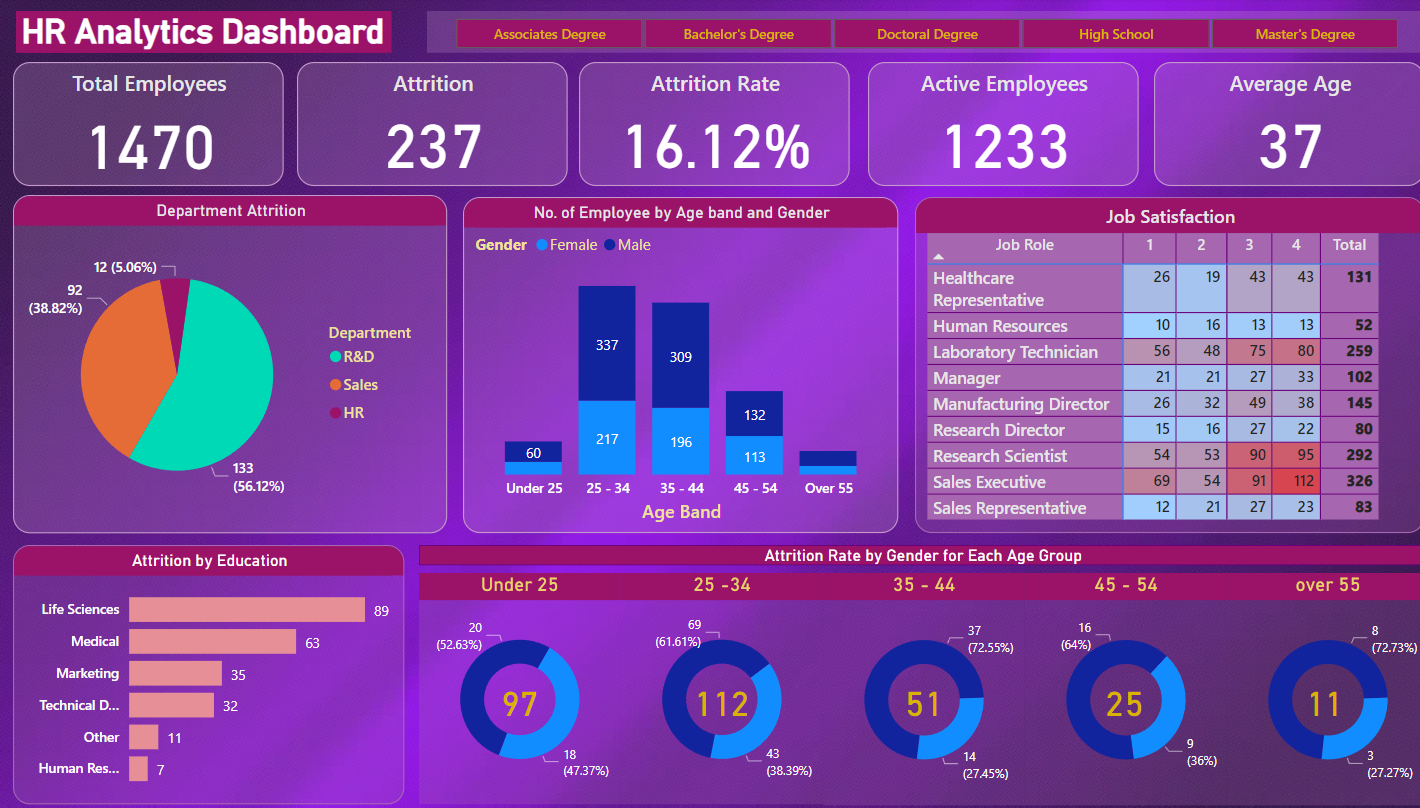

Layout of this report page (visuals, bound fields, positions):
{"tool":"powerbi","page":{"name":"Page 1","canvas":[1280,720],"ordinal":0},"visuals":[{"type":"card","title":"Total Employees","fields":{"Values":["Sum(HR data.Employee Count)"]},"box":[13.6,56.4,240,110],"z":0},{"type":"card","title":"Attrition","fields":{"Values":["Sum(HR data.Attrition Count)"]},"box":[265.3,56.4,240.1,109.8],"z":1000},{"type":"card","title":"Attrition Rate","fields":{"Values":["HR data.Attrition Rate"]},"box":[515.1,56.4,240.1,109.8],"z":2000},{"type":"card","title":"Active Employees","fields":{"Values":["HR data.Active Employees"]},"box":[771.7,56.4,240.1,109.8],"z":3000},{"type":"card","title":"Average Age","fields":{"Values":["Avg(HR data.Age)"]},"box":[1025.4,56.4,240.1,109.8],"z":4000},{"type":"pieChart","title":"Department Attrition","fields":{"Category":["HR data.Department"],"Y":["Sum(HR data.Attrition Count)"]},"box":[13.6,174.9,384.9,300.3],"z":5000},{"type":"columnChart","title":"No. of Employee by Age band and Gender","fields":{"Category":["HR data.CF_age band"],"Y":["Sum(HR data.Employee Count)"],"Series":["HR data.Gender"]},"box":[412.1,176.9,385.8,298.4],"z":6000},{"type":"pivotTable","title":"Job Satisfaction","fields":{"Rows":["HR data.Job Role"],"Columns":["HR data.Job Satisfaction"],"Values":["Sum(HR data.Employee Count)"]},"box":[813.5,176.9,451.9,298.4],"z":7000},{"type":"barChart","title":"Attrition by Education","fields":{"Y":["Sum(HR data.Attrition Count)"],"Category":["HR data.Education Field"]},"box":[13.6,485,347,230.3],"z":8000},{"type":"donutChart","title":"Under 25","fields":{"Category":["HR data.Gender"],"Y":["Sum(HR data.Attrition Count)"],"Series":["HR data.CF_age band"]},"box":[373.2,510.3,178.8,205.1],"z":9000},{"type":"textbox","title":"Attrition Rate by Gender for Each Age Group","box":[373.2,485,892.2,18.5],"z":10000},{"type":"donutChart","title":"25 -34","fields":{"Category":["HR data.Gender"],"Y":["Sum(HR data.Attrition Count)"],"Series":["HR data.CF_age band"]},"box":[552,510.3,178.8,205.1],"z":11000},{"type":"donutChart","title":"35 - 44","fields":{"Category":["HR data.Gender"],"Y":["Sum(HR data.Attrition Count)"],"Series":["HR data.CF_age band"]},"box":[731.5,509.9,179.1,204.8],"z":12000},{"type":"donutChart","title":"45 - 54","fields":{"Category":["HR data.Gender"],"Y":["Sum(HR data.Attrition Count)"],"Series":["HR data.CF_age band"]},"box":[910.6,509.9,179.1,204.8],"z":13000},{"type":"donutChart","title":"over 55","fields":{"Category":["HR data.Gender"],"Y":["Sum(HR data.Attrition Count)"],"Series":["HR data.CF_age band"]},"box":[1089.8,509.9,179.1,204.8],"z":14000},{"type":"card","fields":{"Values":["Sum(HR data.Attrition Count)"]},"box":[607.4,589,68,70],"z":15000},{"type":"card","fields":{"Values":["HR data.Attrition+"]},"box":[428.6,589,68,70],"z":16000},{"type":"card","fields":{"Values":["Sum(HR data.Attrition Count)"]},"box":[786.3,589,68,70],"z":17000},{"type":"card","fields":{"Values":["Sum(HR data.Attrition Count)"]},"box":[965.1,589,68,70],"z":18000},{"type":"card","fields":{"Values":["Sum(HR data.Attrition Count)"]},"box":[1142,589,68,70],"z":19000},{"type":"textbox","title":"HR Analytics Dashboard","box":[15.6,11.7,333.4,36.9],"z":20000},{"type":"slicer","fields":{"Values":["HR data.Education"]},"box":[380,11.7,885.4,36.9],"z":21000}]}

Visuals, with their boxes in screenshot pixels (x1, y1, x2, y2), scaled from the page's 1280x720 canvas onto the 1420x808 screenshot:
"Total Employees" card: box=[15, 63, 281, 187]
"Attrition" card: box=[294, 63, 561, 187]
"Attrition Rate" card: box=[571, 63, 838, 187]
"Active Employees" card: box=[856, 63, 1122, 187]
"Average Age" card: box=[1138, 63, 1404, 187]
"Department Attrition" pieChart: box=[15, 196, 442, 533]
"No. of Employee by Age band and Gender" columnChart: box=[457, 199, 885, 533]
"Job Satisfaction" pivotTable: box=[902, 199, 1404, 533]
"Attrition by Education" barChart: box=[15, 544, 400, 803]
"Under 25" donutChart: box=[414, 573, 612, 803]
"Attrition Rate by Gender for Each Age Group" textbox: box=[414, 544, 1404, 565]
"25 -34" donutChart: box=[612, 573, 811, 803]
"35 - 44" donutChart: box=[812, 572, 1010, 802]
"45 - 54" donutChart: box=[1010, 572, 1209, 802]
"over 55" donutChart: box=[1209, 572, 1408, 802]
card - Sum(HR data.Attrition Count): box=[674, 661, 749, 740]
card - HR data.Attrition+: box=[475, 661, 551, 740]
card - Sum(HR data.Attrition Count): box=[872, 661, 948, 740]
card - Sum(HR data.Attrition Count): box=[1071, 661, 1146, 740]
card - Sum(HR data.Attrition Count): box=[1267, 661, 1342, 740]
"HR Analytics Dashboard" textbox: box=[17, 13, 387, 55]
slicer - HR data.Education: box=[422, 13, 1404, 55]
